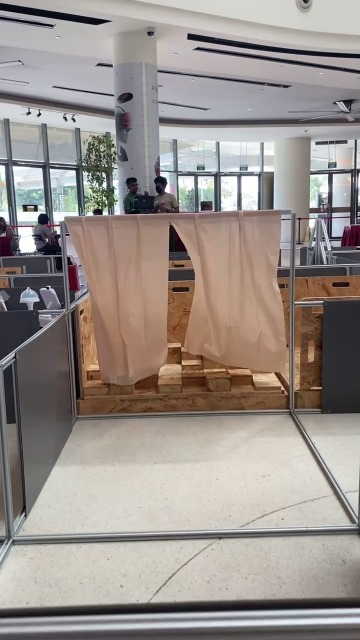curtain: (65, 205, 306, 384)
